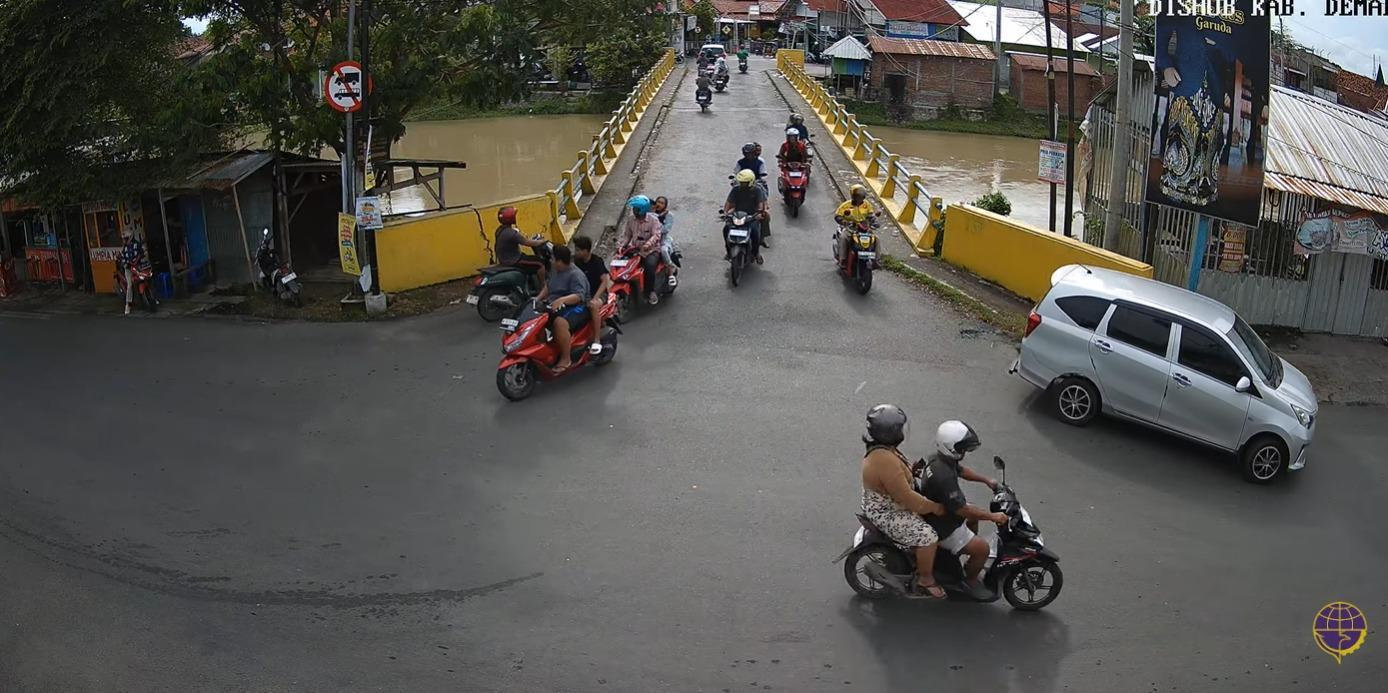Helmet: (864, 404, 908, 446), (935, 420, 979, 459), (628, 195, 651, 213), (498, 206, 517, 224), (735, 169, 755, 184), (850, 184, 866, 199), (741, 143, 756, 155), (850, 184, 866, 194), (790, 113, 803, 124), (785, 128, 798, 137)
Number Plate: (500, 318, 518, 330), (729, 228, 748, 239), (280, 272, 296, 283), (465, 294, 479, 305), (858, 251, 877, 259), (611, 259, 629, 267), (858, 234, 873, 243)
Rearview Mirror: (1235, 376, 1251, 392), (993, 456, 1005, 470)
